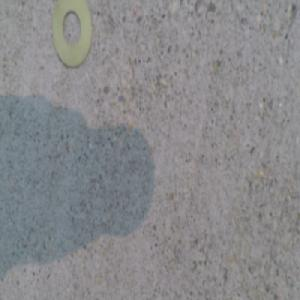Washer: (51, 4, 91, 75)
